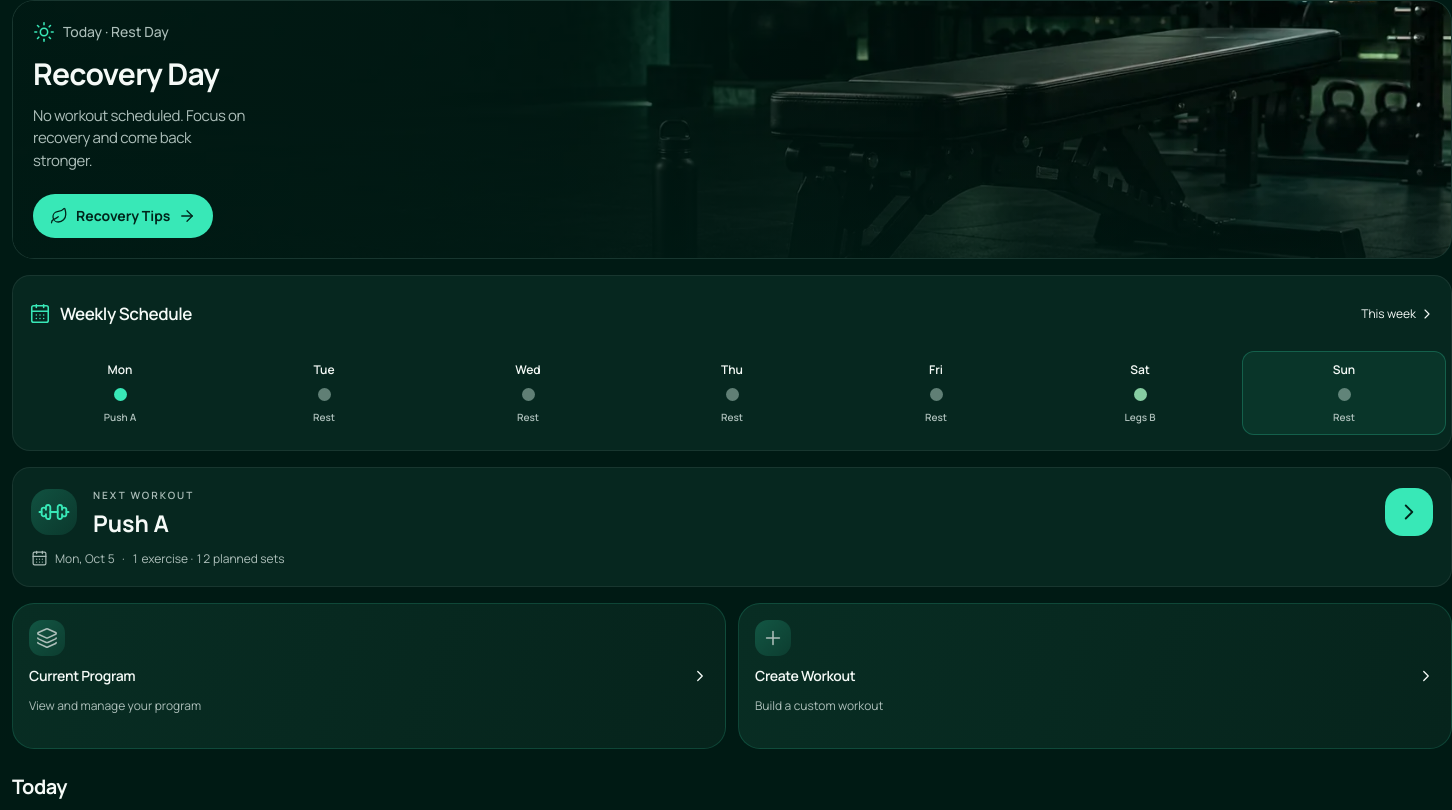
Test case: shows the actual schedule when selecting a different calendar date without starting that workout
This screenshot has width=1452, height=810.
Expected: the heading "Today" is shown, [12,774,67,799]
Click the button with aria-label "Monday".
click(120, 393)  # box [18,351,222,435]
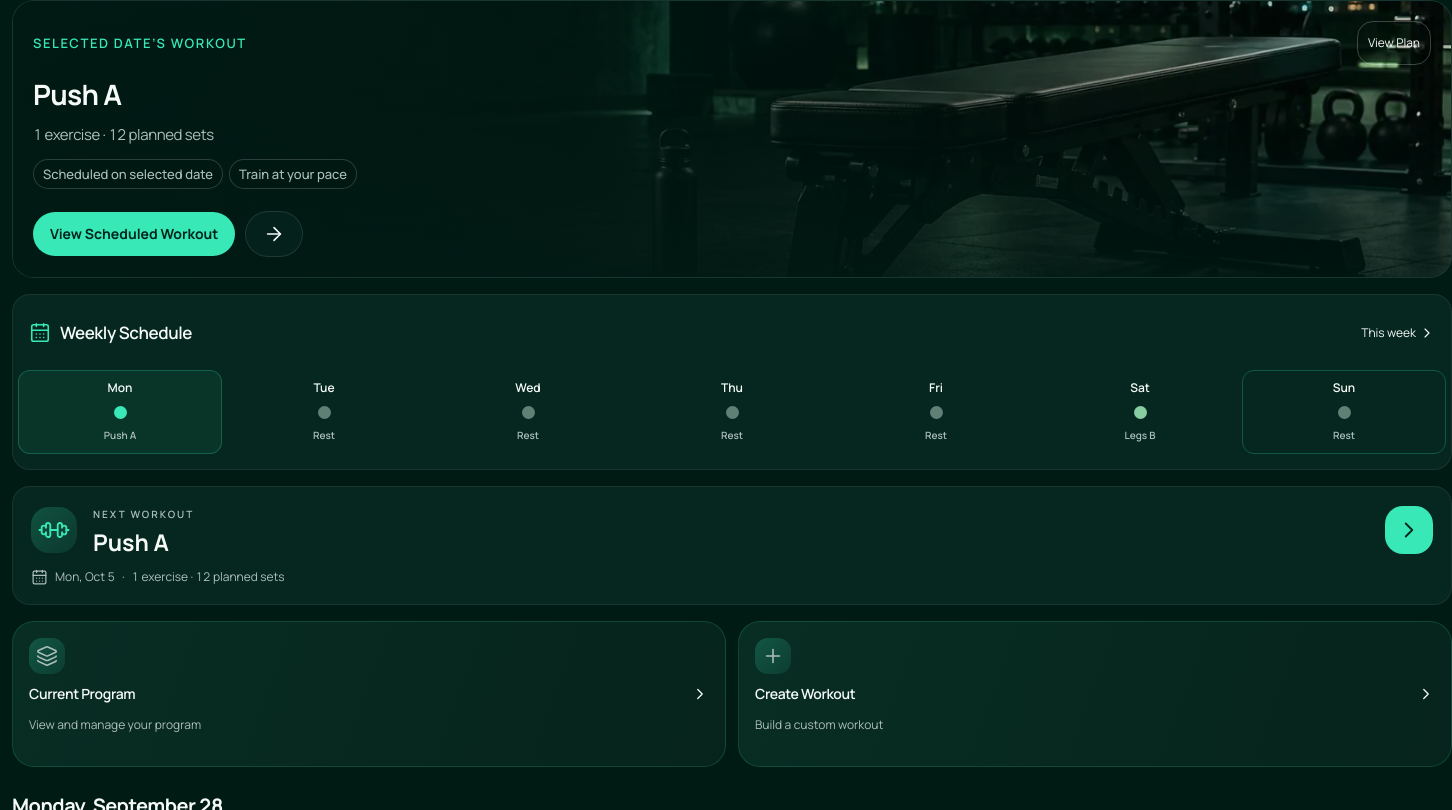
Now the heading "Push A" is shown, box [33,75,121,113]
